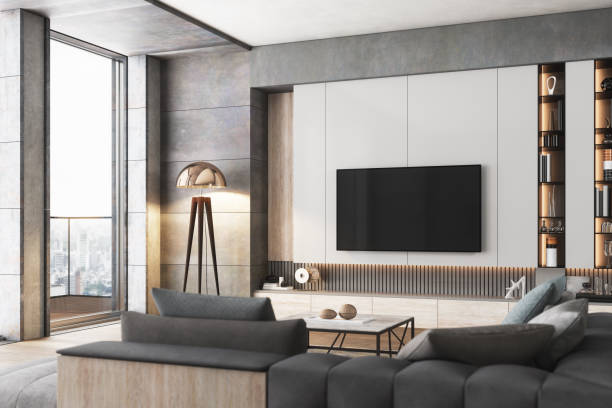TV: (334, 163, 484, 255)
floor lamp: (172, 159, 230, 296)
sofa: (52, 276, 611, 408)
table: (283, 306, 416, 358)
